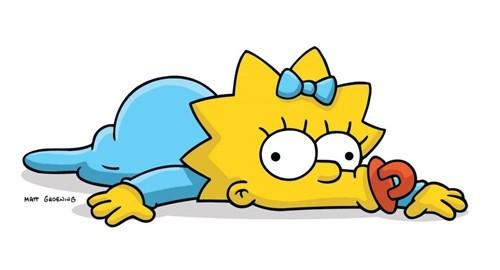Maggie: (13, 39, 468, 236)
